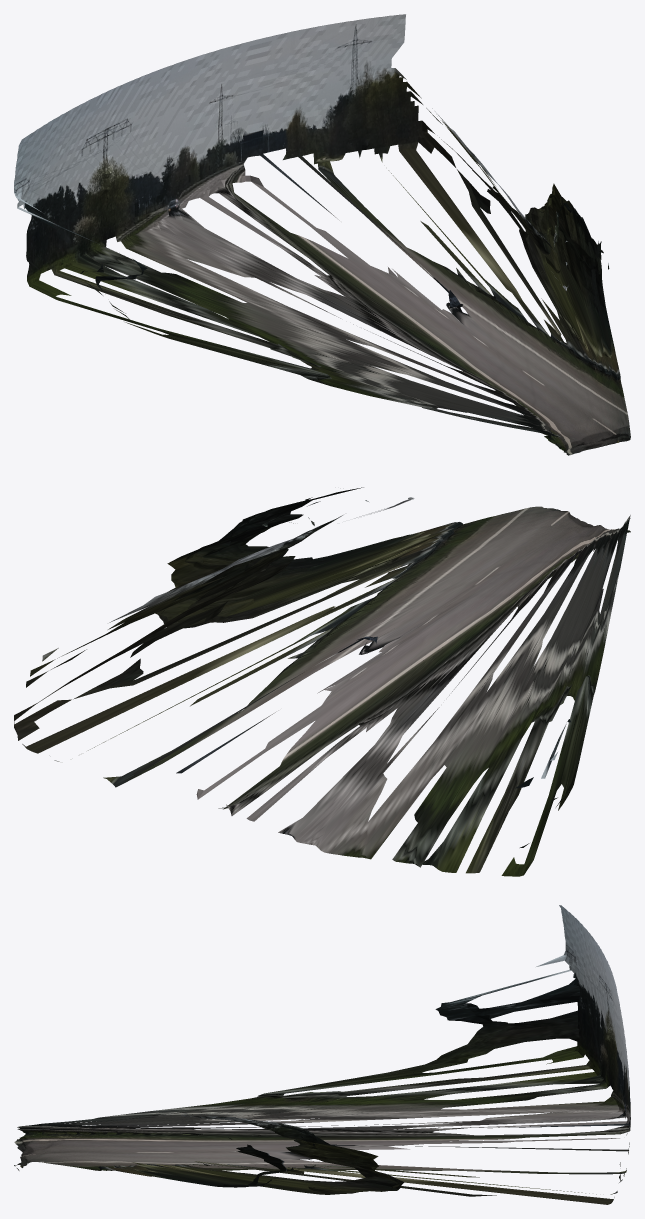
The picture shows the model from 3 angles, top to bottom: view 1: azimuth 30°, elevation 25°; view 2: azimuth 150°, elevation 25°; view 3: azimuth 270°, elevation 25°; orthographic projection. The views are drawn at different scales.
Parts seen in each view (by area): view 1: defaultobject; view 2: defaultobject; view 3: defaultobject.
Boxes of the visible parts, bbox=[...] form: defaultobject: bbox=[14, 14, 630, 455]; defaultobject: bbox=[14, 487, 630, 876]; defaultobject: bbox=[14, 905, 630, 1204].
Bounding box in the file's own units: 32.4 × 12.12 × 44.64.
1 material, 1 textured.
